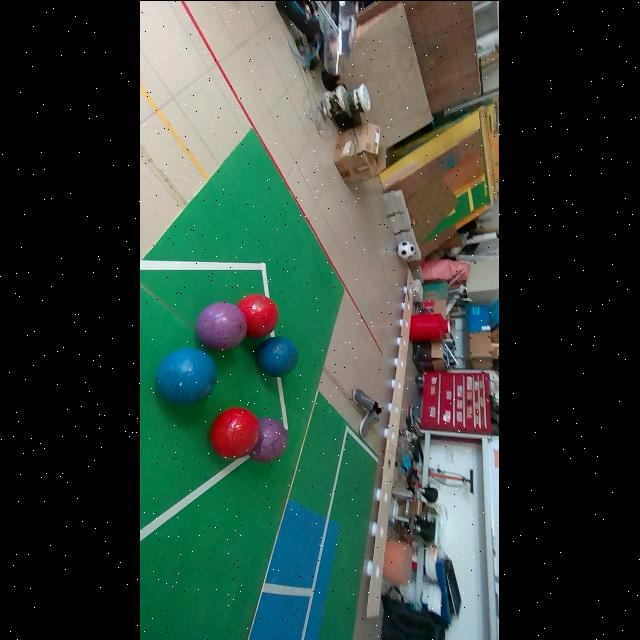B: (158, 347, 217, 404), (258, 335, 297, 375)
P: (198, 301, 248, 349), (250, 417, 288, 462)
R: (211, 407, 261, 457), (239, 292, 280, 337)
